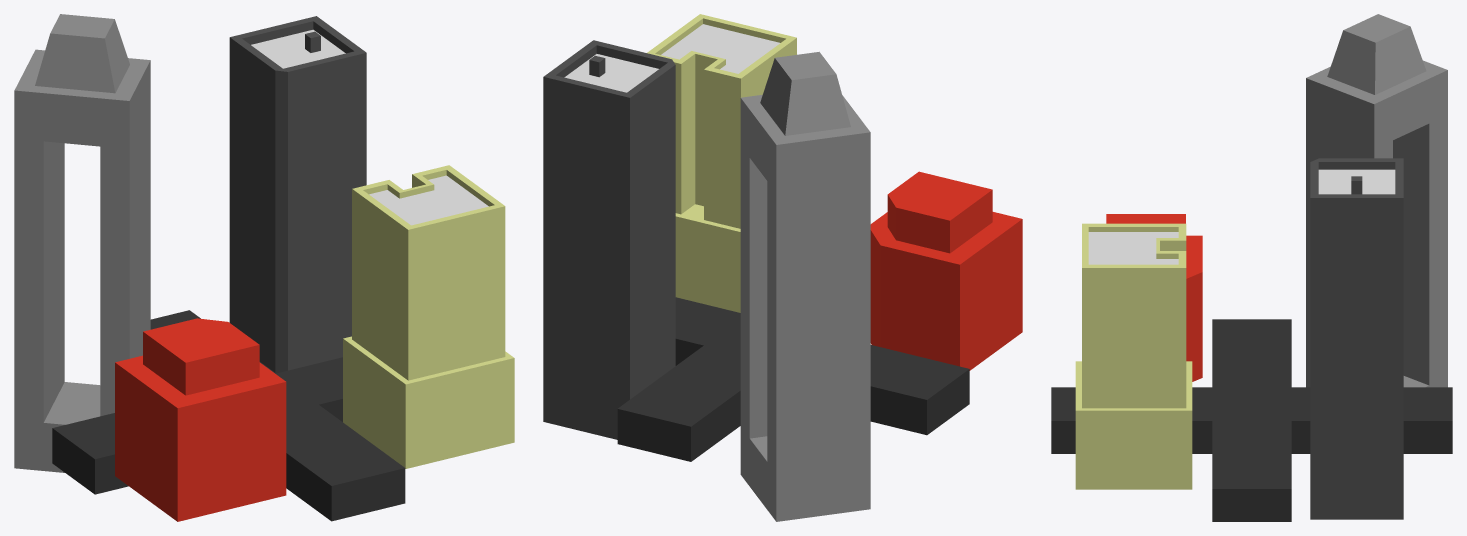
The model's file is city.gltf.
The picture shows the model from 3 angles, left to right: view 1: azimuth 30°, elevation 25°; view 2: azimuth 150°, elevation 25°; view 3: azimuth 270°, elevation 25°; orthographic projection. The views are drawn at different scales.
Visible parts, largest first — view 1: Cube.004, Cube.003, Cube.002, Cube.005, Cube.001; view 2: Cube.004, Cube.002, Cube.005, Cube.003, Cube.001; view 3: Cube.002, Cube.003, Cube.004, Cube.001, Cube.005.
Boxes of the visible parts, left/top/right/bottom form: Cube.004: left=14, top=14, right=150, bottom=472; Cube.003: left=343, top=165, right=514, bottom=468; Cube.002: left=229, top=16, right=366, bottom=373; Cube.005: left=115, top=318, right=286, bottom=521; Cube.001: left=52, top=310, right=405, bottom=521; Cube.004: left=740, top=51, right=870, bottom=521; Cube.002: left=543, top=40, right=675, bottom=439; Cube.005: left=870, top=171, right=1022, bottom=370; Cube.003: left=647, top=14, right=796, bottom=312; Cube.001: left=617, top=297, right=969, bottom=461; Cube.002: left=1310, top=158, right=1403, bottom=519; Cube.003: left=1075, top=223, right=1192, bottom=489; Cube.004: left=1306, top=14, right=1447, bottom=387; Cube.001: left=1051, top=319, right=1452, bottom=521; Cube.005: left=1106, top=214, right=1202, bottom=381.
Size of the model in its own units: 2 by 2.18 by 2.
